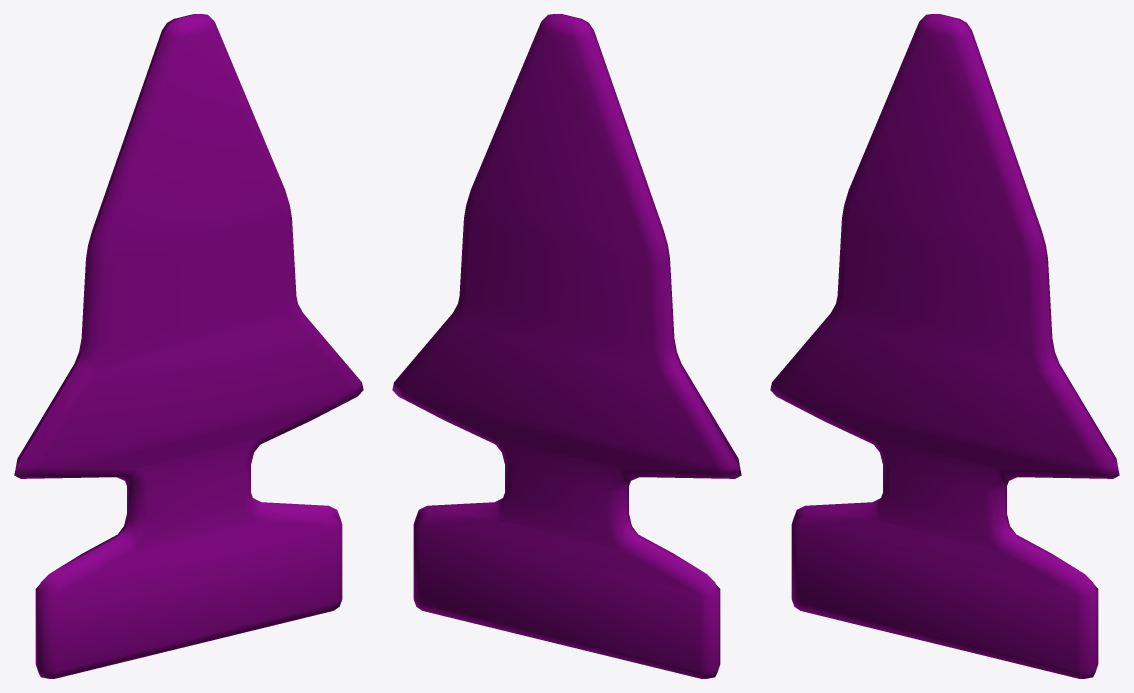
The model's file is AirFreshener.fbx.
3 renders of one model, left to right at view 1: azimuth 30°, elevation 25°; view 2: azimuth 150°, elevation 25°; view 3: azimuth 330°, elevation 25°, orthographic.
Visible parts, largest first — view 1: AirFreshener; view 2: AirFreshener; view 3: AirFreshener.
Part boxes in pixels (x1=…): AirFreshener: x1=14, y1=14, x2=363, y2=678; AirFreshener: x1=392, y1=14, x2=741, y2=678; AirFreshener: x1=770, y1=14, x2=1119, y2=678.
Size of the model in its own units: 7.25 by 12.47 by 0.5181.
